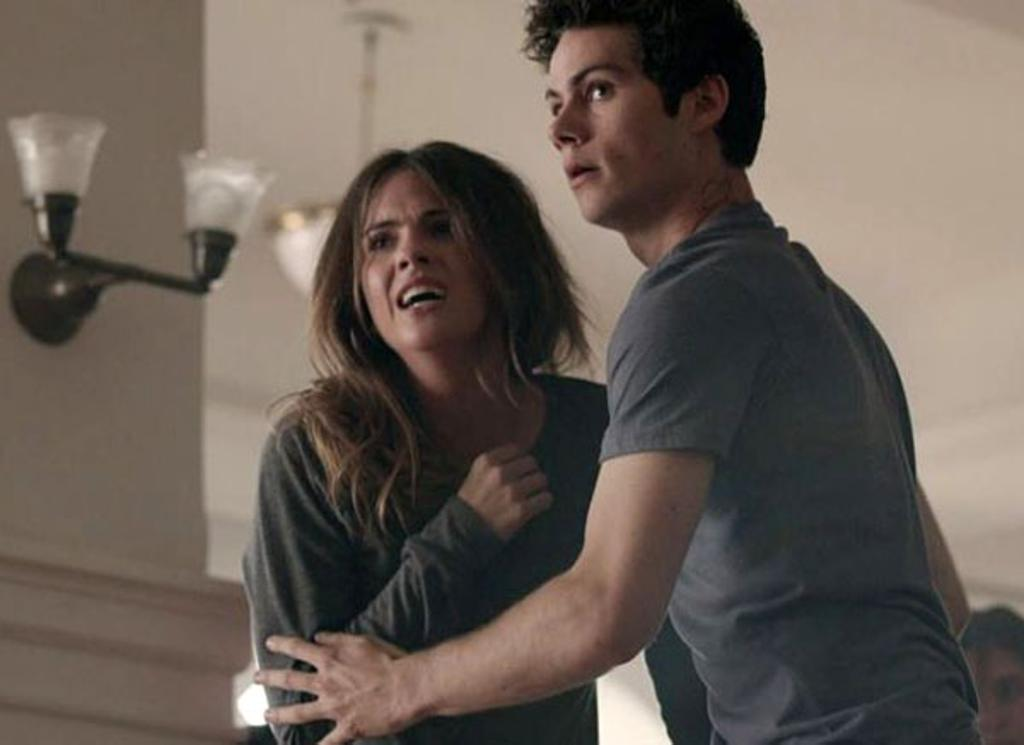face: (542, 24, 694, 224), (360, 170, 500, 346)
